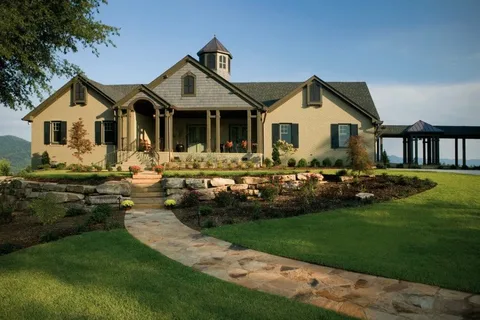private_hause: (43, 64, 387, 174)
